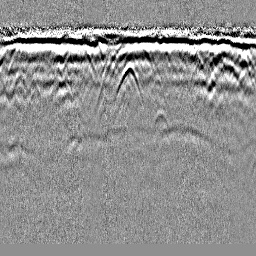cavity: (113, 60, 144, 104)
